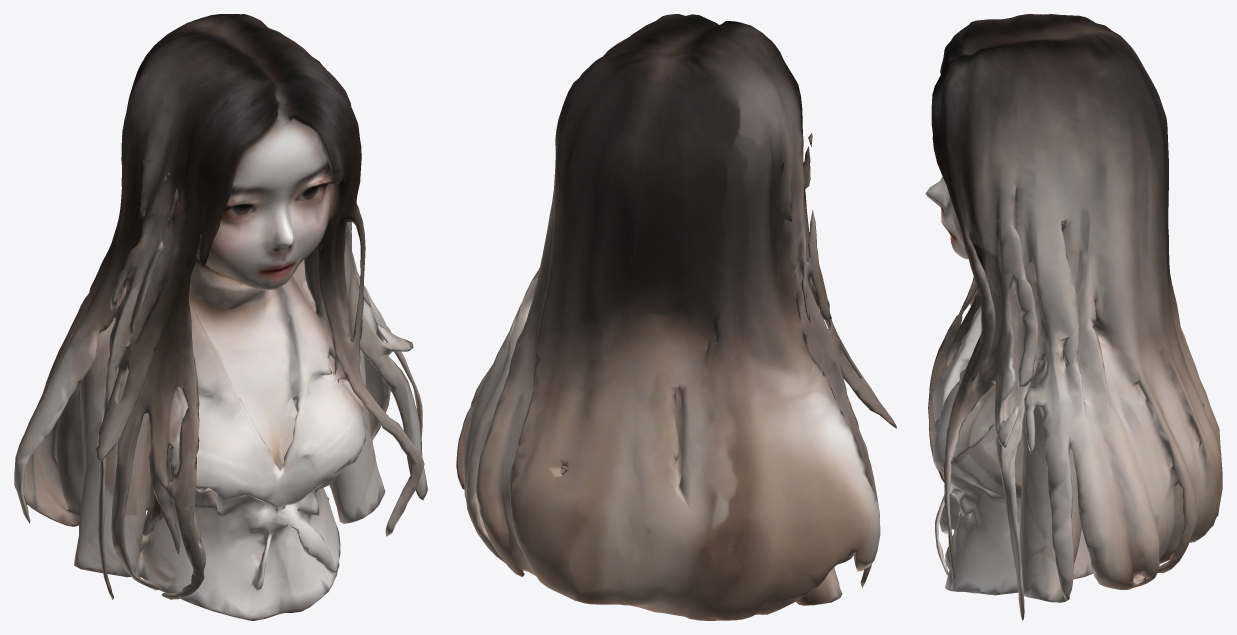
The model's file is ref-a-sexy-girl.glb.
3 views of the same model, side by side, from view 1: azimuth 30°, elevation 25°; view 2: azimuth 150°, elevation 25°; view 3: azimuth 270°, elevation 25° (orthographic). The views are drawn at different scales.
Bounding box in the file's own units: 1.55 × 2 × 0.9824.
1 material, 1 textured.
